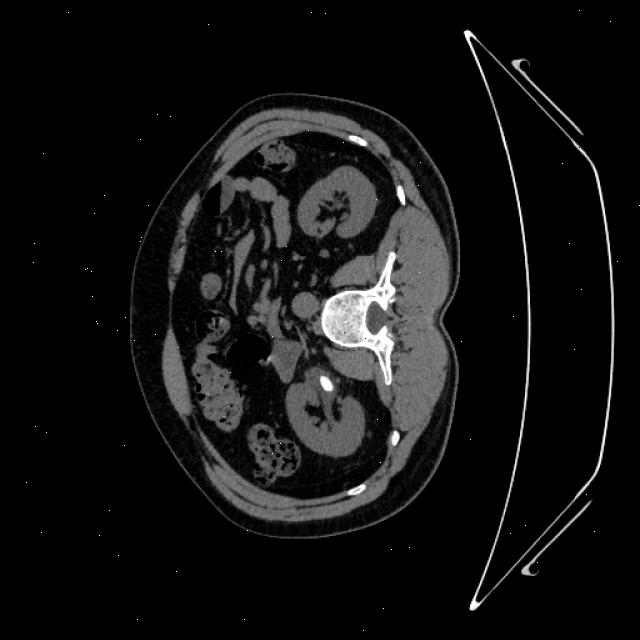kidneystone: (319, 375, 334, 391)
